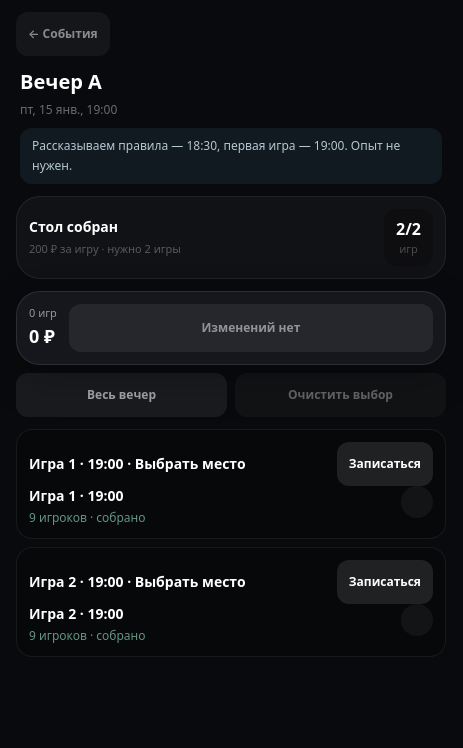
Scenario: existing booking screen correctness › keeps the selected plan after a failed save and allows retry
This screenshot has width=463, height=748.
Step 1. Click the button with aria-label "Выбрать игру 1" → (385, 464), box 337,442 -> 433,486
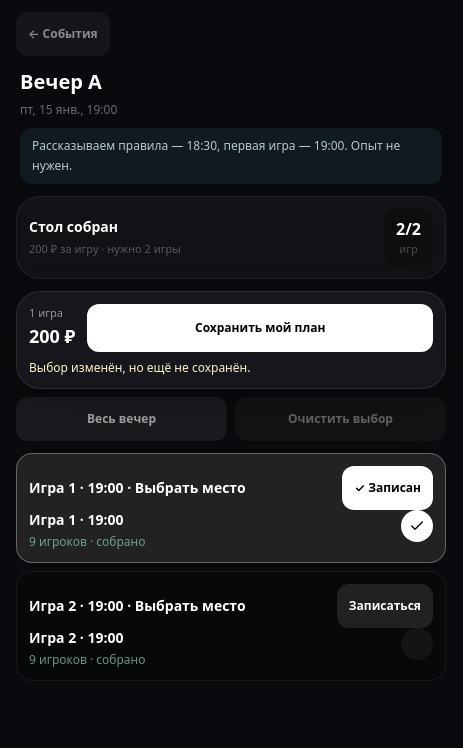
Step 2. Click the button "Сохранить мой план" → (260, 328), box 87,304 -> 433,352
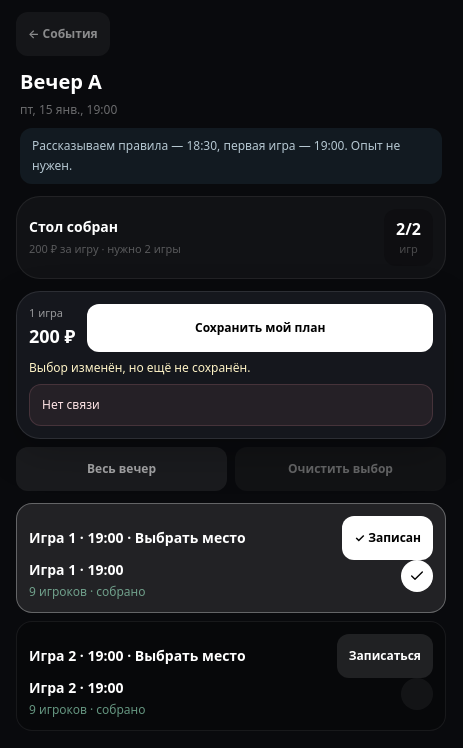
Check: the text "План сохранён" is not shown
Check: the text "Нет связи" is shown, box 29,384 -> 433,426
Step 3. Click the button "Сохранить мой план" → (260, 328), box 87,304 -> 433,352
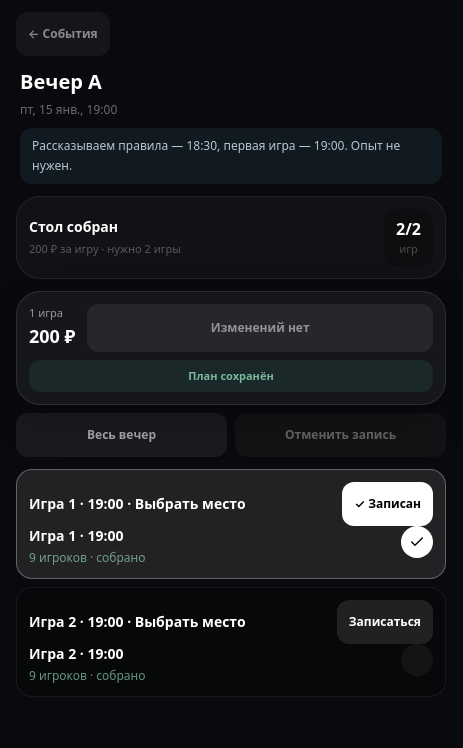
Check: the text "План сохранён" is shown, box 29,360 -> 433,392
